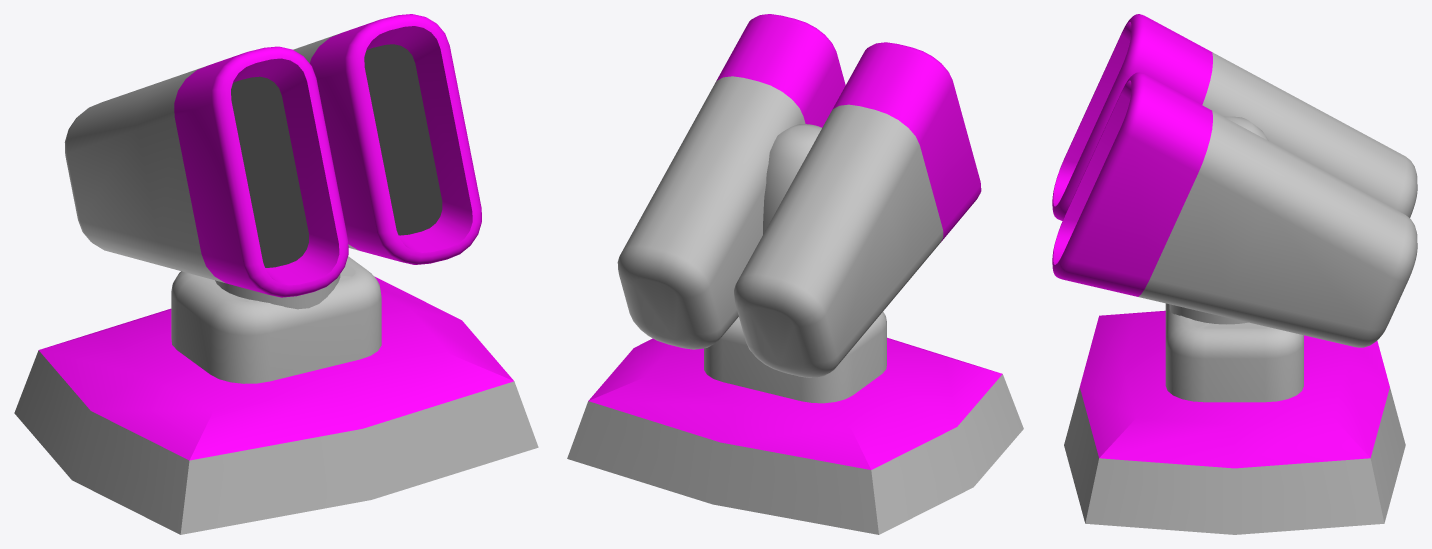
Rendered from Turret.fbx.
3 renders of one model, left to right at view 1: azimuth 30°, elevation 25°; view 2: azimuth 150°, elevation 25°; view 3: azimuth 270°, elevation 25°, orthographic. The views are drawn at different scales.
Parts seen in each view (by area): view 1: Cube.034, Cube.036; view 2: Cube.036, Cube.034; view 3: Cube.036, Cube.034.
Part boxes in pixels (x1,y1,x2,y2): Cube.034: (14,256,538,534); Cube.036: (64,14,481,309); Cube.036: (617,14,981,377); Cube.034: (567,311,1023,534); Cube.036: (1052,14,1417,347); Cube.034: (1064,303,1405,534).
Bounding box in the file's own units: 96.44 × 98.09 × 82.87.
